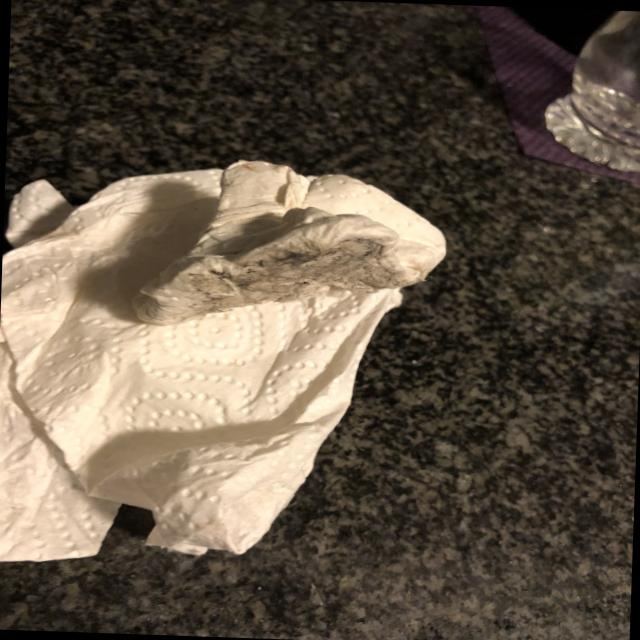organic waste: (0, 154, 441, 574), (136, 158, 454, 332)
